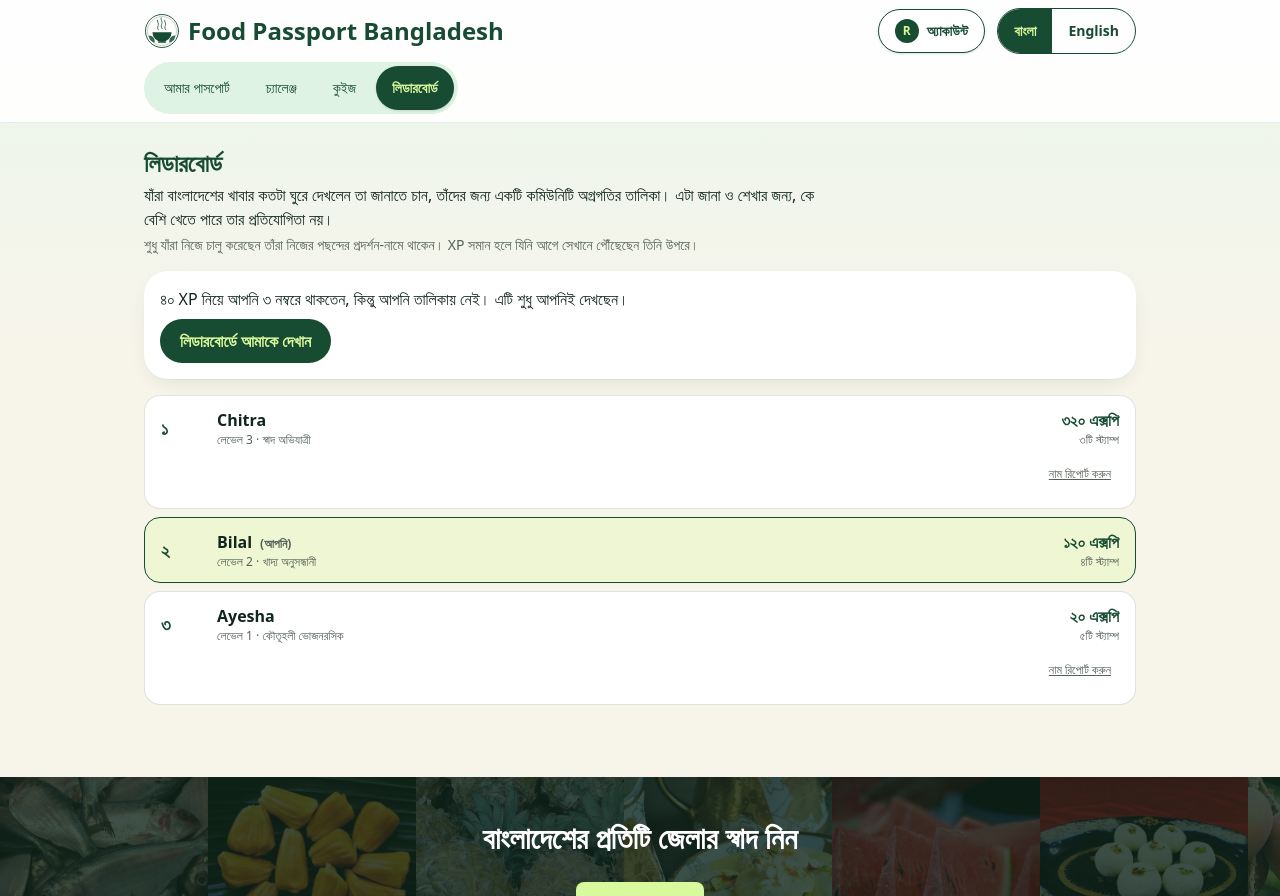
Test: a signed-in person who is not listed sees where they would be, only to themselves, and can join
The image size is (1280, 896).
Click the button "লিডারবোর্ডে আমাকে দেখান": (246, 341) [160,319,331,363]
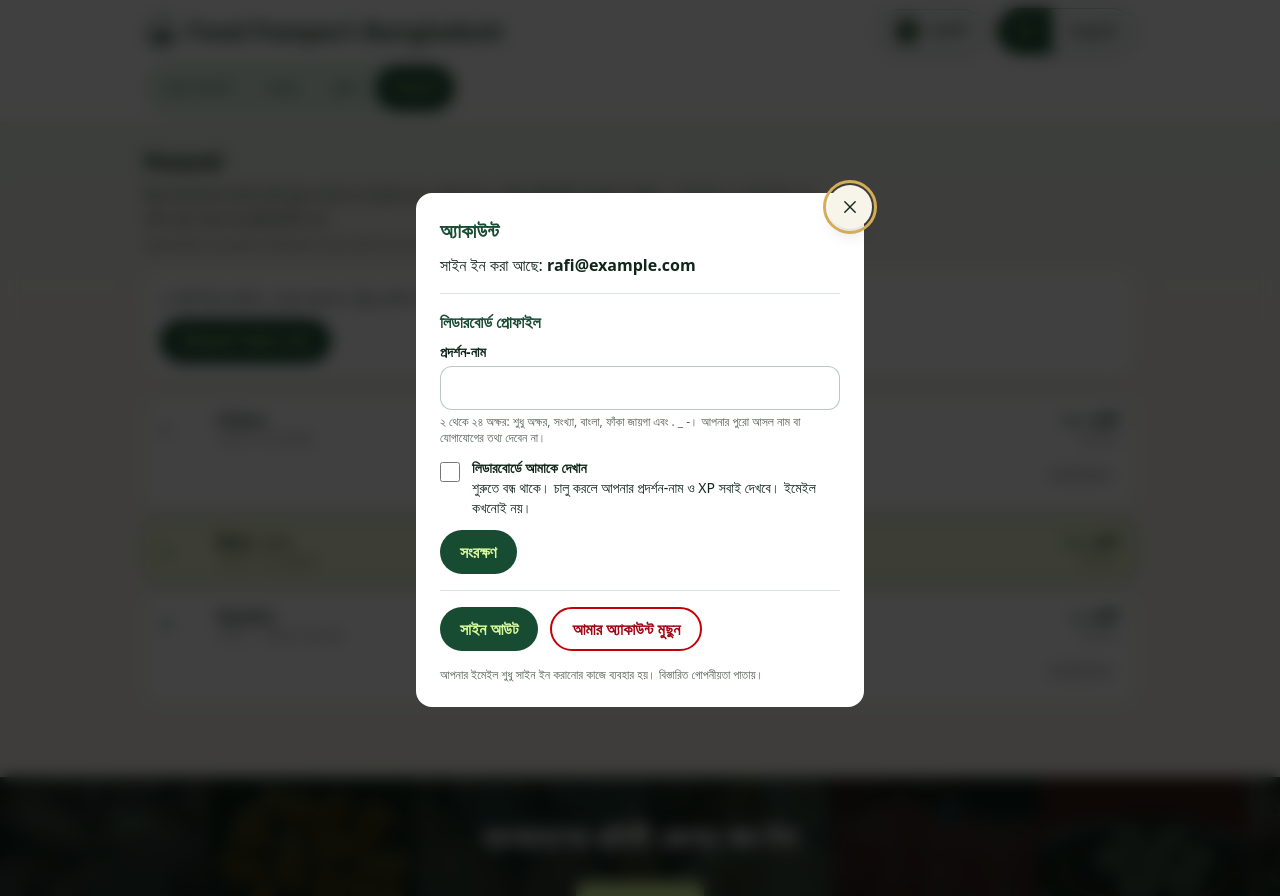
Expected: the dialog "অ্যাকাউন্ট" is shown, [416,193,864,707]
